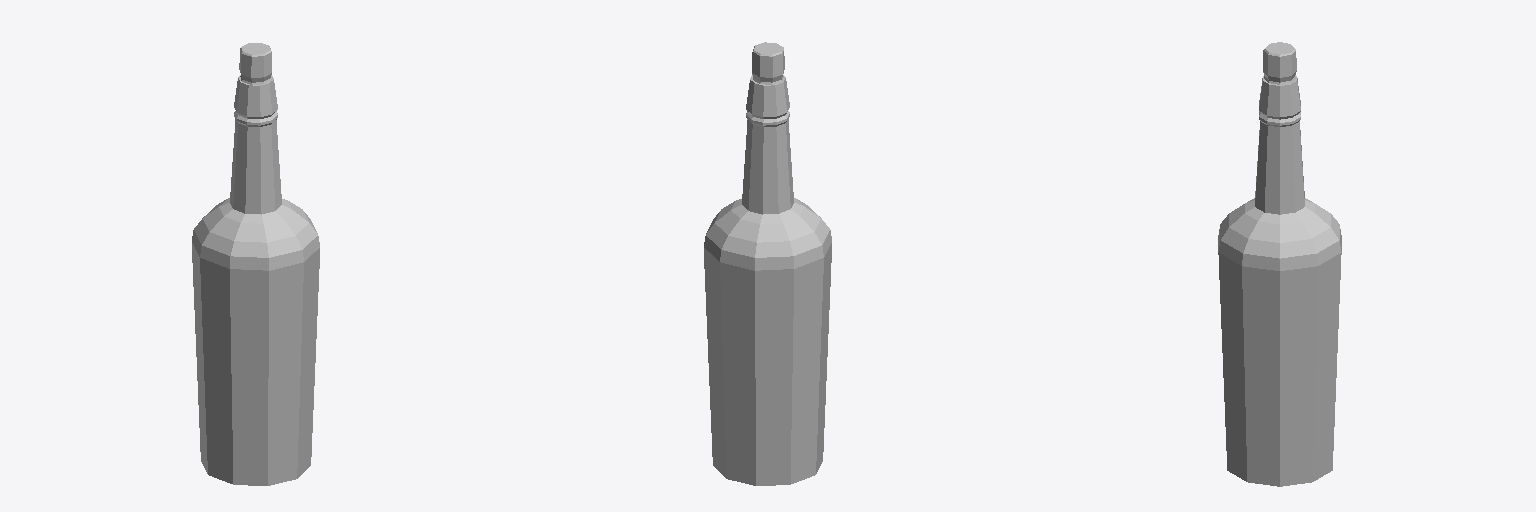
Rendered from Bottle.obj.
The picture shows the model from 3 angles: view 1: azimuth 30°, elevation 25°; view 2: azimuth 150°, elevation 25°; view 3: azimuth 270°, elevation 25°; orthographic projection.
Parts seen in each view (by area): view 1: Bottle; view 2: Bottle; view 3: Bottle.
Boxes of the visible parts, box(x1,y1,x2,y2) form: Bottle: box(192, 43, 319, 485); Bottle: box(704, 42, 831, 485); Bottle: box(1218, 42, 1341, 486).
Bounding box in the file's own units: 1.09 × 3.85 × 1.04.